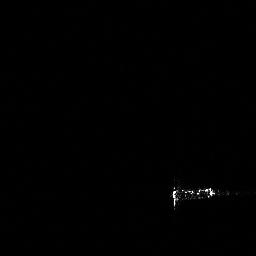ship: (166, 181, 222, 214)
